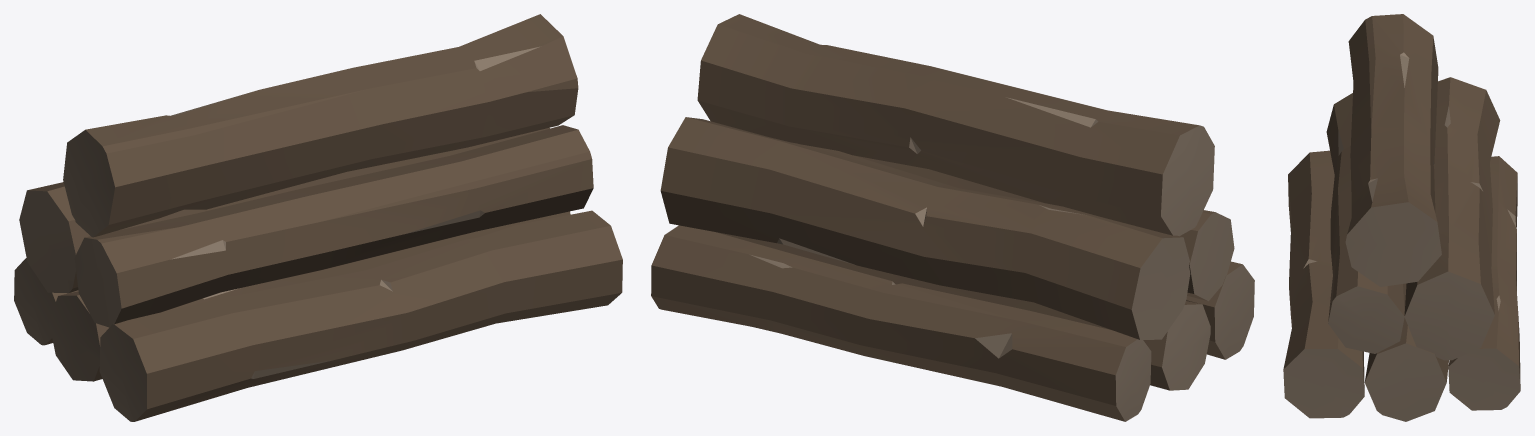
The model's file is BG_wood_logs_01.fbx.
The picture shows the model from 3 angles, left to right: view 1: azimuth 30°, elevation 25°; view 2: azimuth 150°, elevation 25°; view 3: azimuth 270°, elevation 25°; orthographic projection. The views are drawn at different scales.
Parts seen in each view (by area): view 1: BG_wood_logs_01; view 2: BG_wood_logs_01; view 3: BG_wood_logs_01.
Part boxes in pixels (bbox=[...]): BG_wood_logs_01: bbox=[14, 14, 622, 421]; BG_wood_logs_01: bbox=[651, 14, 1254, 421]; BG_wood_logs_01: bbox=[1283, 14, 1520, 421].
Size of the model in its own units: 39.57 by 20.15 by 20.05.
